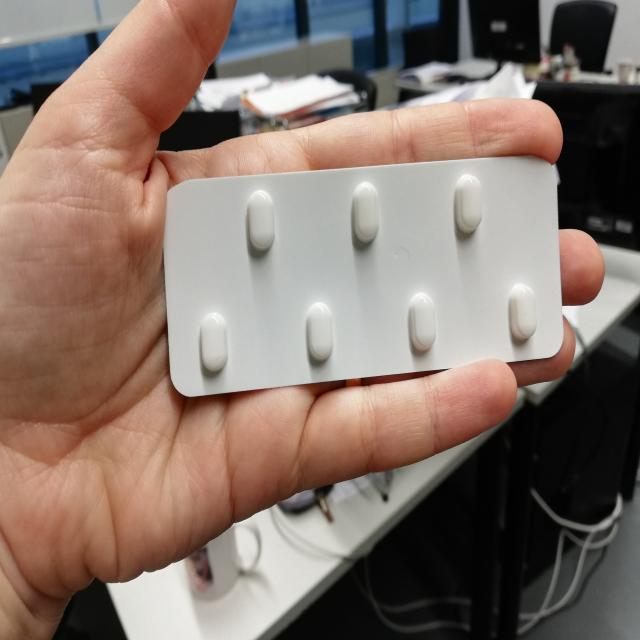Pill: (190, 296, 238, 384), (338, 176, 390, 252), (240, 172, 278, 269), (406, 282, 447, 371), (502, 276, 548, 355), (449, 165, 489, 248), (294, 292, 338, 364)
